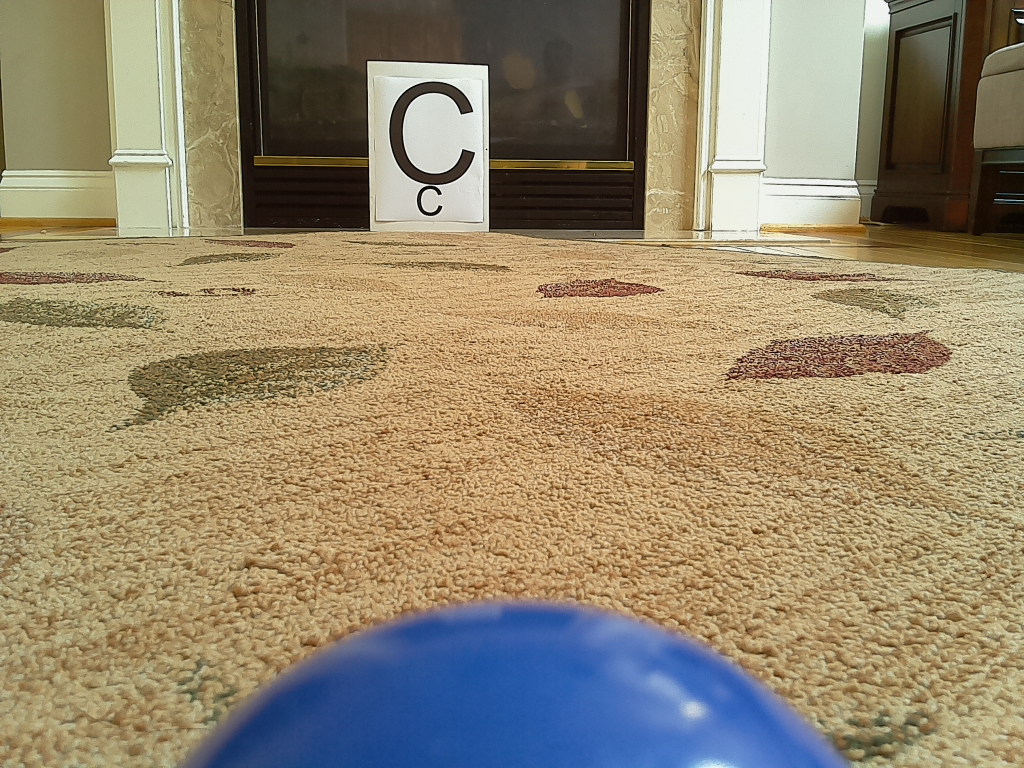letter: (389, 82, 476, 185)
